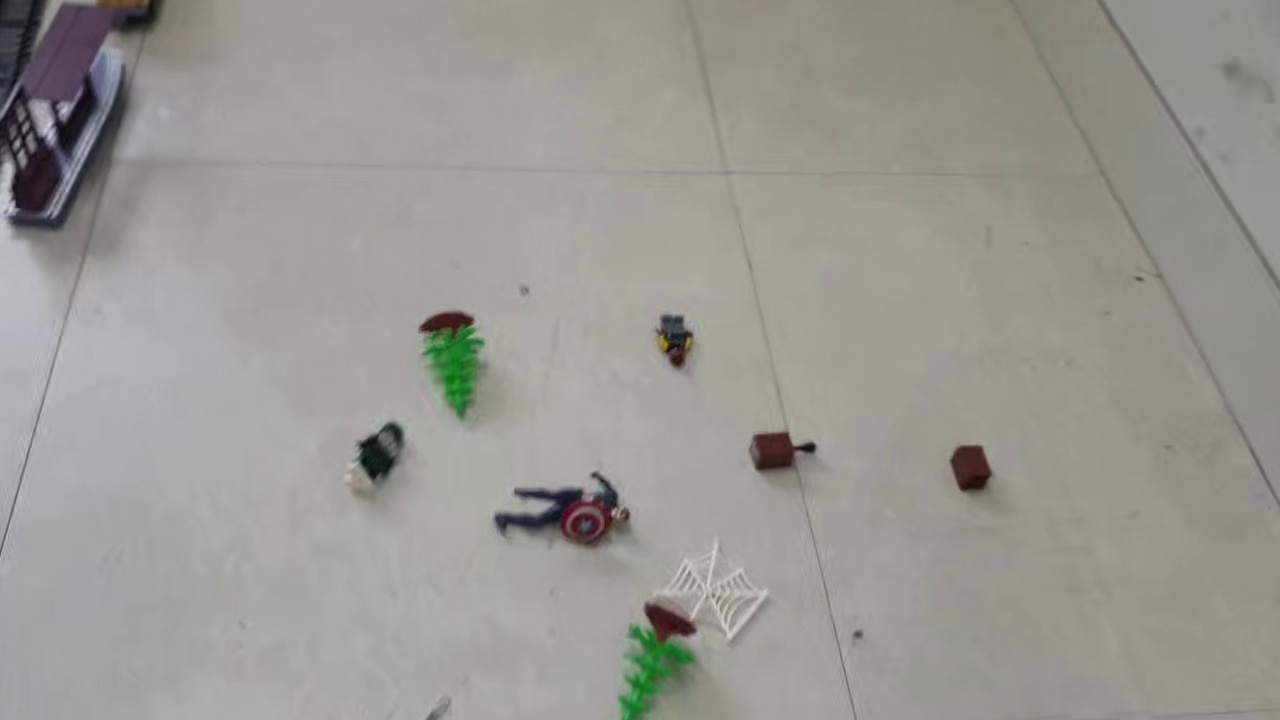box: (744, 429, 818, 470), (947, 444, 995, 497)
people: (494, 470, 633, 549), (344, 421, 407, 499), (651, 314, 698, 375)
tree: (612, 604, 704, 720), (414, 310, 495, 423)
web: (649, 538, 775, 644)
